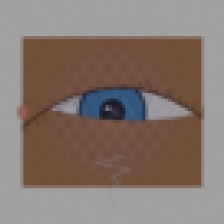foreign_body_visible: (117, 122, 134, 136)
